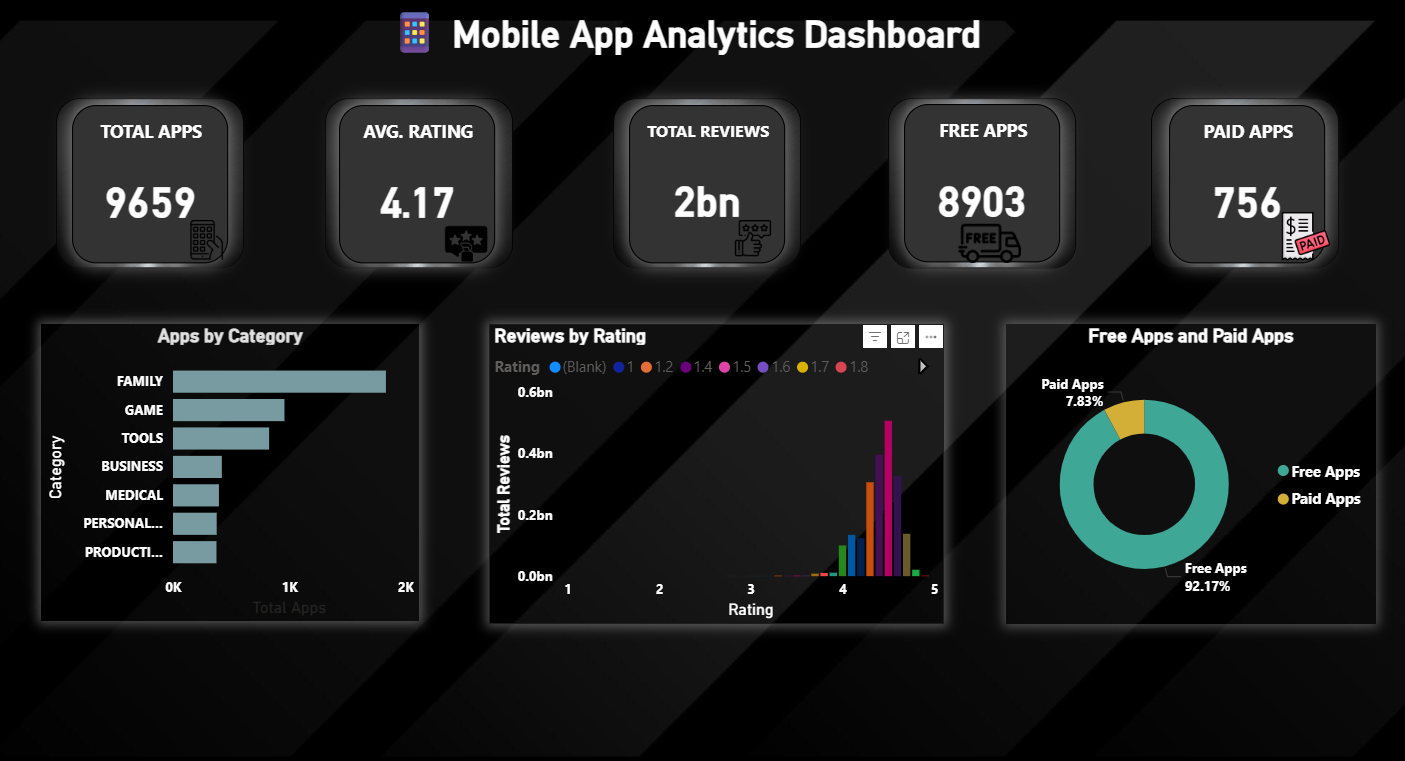

Layout of this report page (visuals, bound fields, positions):
{"tool":"powerbi","page":{"name":"Page 1","canvas":[1280,720],"ordinal":0},"visuals":[{"type":"image","box":[558.3,100.2,171.2,154.7],"z":0},{"type":"image","box":[51.6,100.2,171.2,154.7],"z":1000},{"type":"image","box":[1047.5,100.2,171.2,154.7],"z":2000},{"type":"image","box":[808.3,100.2,171.2,154.7],"z":3000},{"type":"image","box":[296.7,100.2,171.2,154.7],"z":4000},{"type":"card","fields":{"Values":["apps.Paid Apps"]},"box":[1064.1,106,142,144],"z":5000},{"type":"card","fields":{"Values":["apps.Free Apps"]},"box":[822.9,105,142,144],"z":6000},{"type":"card","fields":{"Values":["apps.Total Apps"]},"box":[66.1,106,142,144],"z":7000},{"type":"card","fields":{"Values":["apps.Avg Rating"]},"box":[309.3,106,142,144],"z":8000},{"type":"card","fields":{"Values":["apps.Total Reviews"]},"box":[572.9,106,142,144],"z":9000},{"type":"clusteredBarChart","title":" Apps by Category","fields":{"Category":["apps.Category"],"Y":["apps.Total Apps"]},"box":[37.9,305.4,344.3,270.4],"z":10000},{"type":"columnChart","title":" Reviews by Rating","fields":{"Y":["apps.Total Reviews"],"Category":["apps.Rating"],"Series":["apps.Rating"]},"box":[445.1,305.3,414,272.6],"z":11000},{"type":"donutChart","fields":{"Y":["apps.Free Apps","apps.Paid Apps"]},"box":[915.1,305.3,336.4,272.6],"z":12000},{"type":"textbox","box":[347.6,13.8,567.5,72.5],"z":13000},{"type":"image","box":[167.3,211.3,43.1,36.2],"z":14000},{"type":"image","box":[398.5,215.6,53.5,38.8],"z":15000},{"type":"image","box":[1158.4,203.6,59.5,44],"z":16000},{"type":"image","box":[859.1,203.6,83.7,56.9],"z":17000},{"type":"image","box":[660.7,211.3,48.3,32.8],"z":18000}]}

Visuals, with their boxes on the page's 1280x720 design canvas (x1, y1, x2, y2). These are canvas units, not pixel positions in the 1405x761 screenshot, which may show the page scaled, cropped or inside an application window:
image: select_region(558, 100, 730, 255)
image: select_region(52, 100, 223, 255)
image: select_region(1048, 100, 1219, 255)
image: select_region(808, 100, 980, 255)
image: select_region(297, 100, 468, 255)
card - apps.Paid Apps: select_region(1064, 106, 1206, 250)
card - apps.Free Apps: select_region(823, 105, 965, 249)
card - apps.Total Apps: select_region(66, 106, 208, 250)
card - apps.Avg Rating: select_region(309, 106, 451, 250)
card - apps.Total Reviews: select_region(573, 106, 715, 250)
" Apps by Category" clusteredBarChart: select_region(38, 305, 382, 576)
" Reviews by Rating" columnChart: select_region(445, 305, 859, 578)
donutChart - apps.Free Apps x apps.Paid Apps: select_region(915, 305, 1252, 578)
textbox: select_region(348, 14, 915, 86)
image: select_region(167, 211, 210, 248)
image: select_region(398, 216, 452, 254)
image: select_region(1158, 204, 1218, 248)
image: select_region(859, 204, 943, 260)
image: select_region(661, 211, 709, 244)
